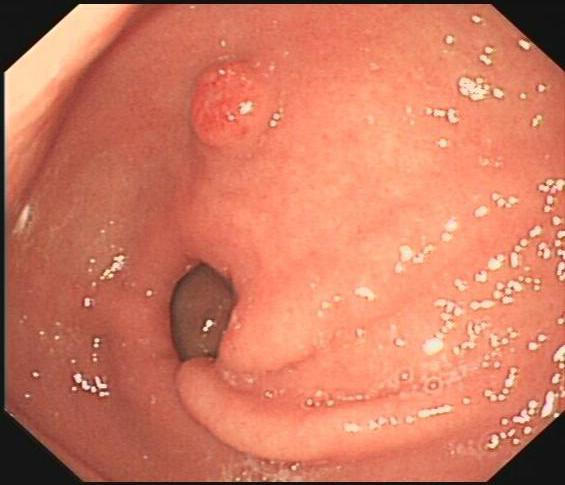Polyp: (157, 38, 307, 175)
